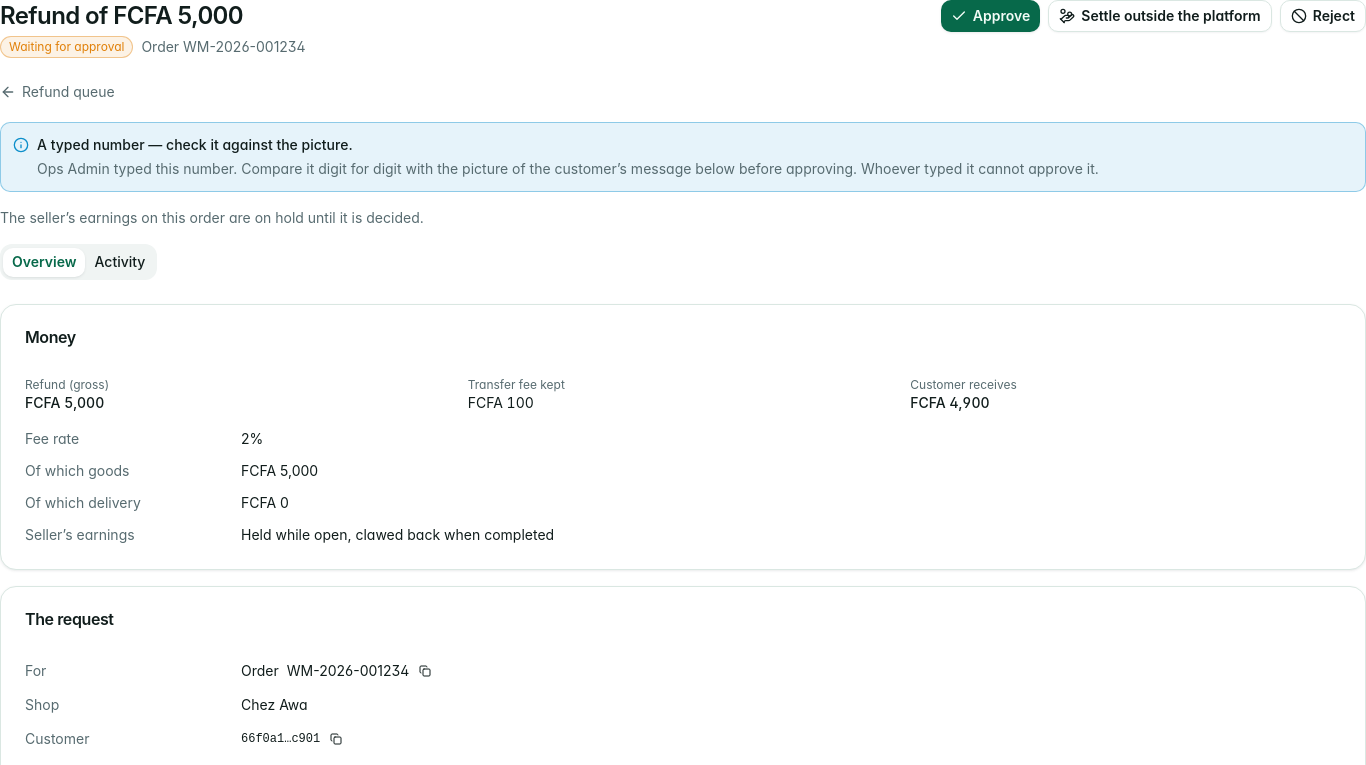
Scenario: the two four-eyes rules › turns REFUND_SECOND_APPROVER_REQUIRED into the reason, not a generic error
Click the button "Approve" at (991, 16), box top-left (941, 0), bottom-right (1040, 32)
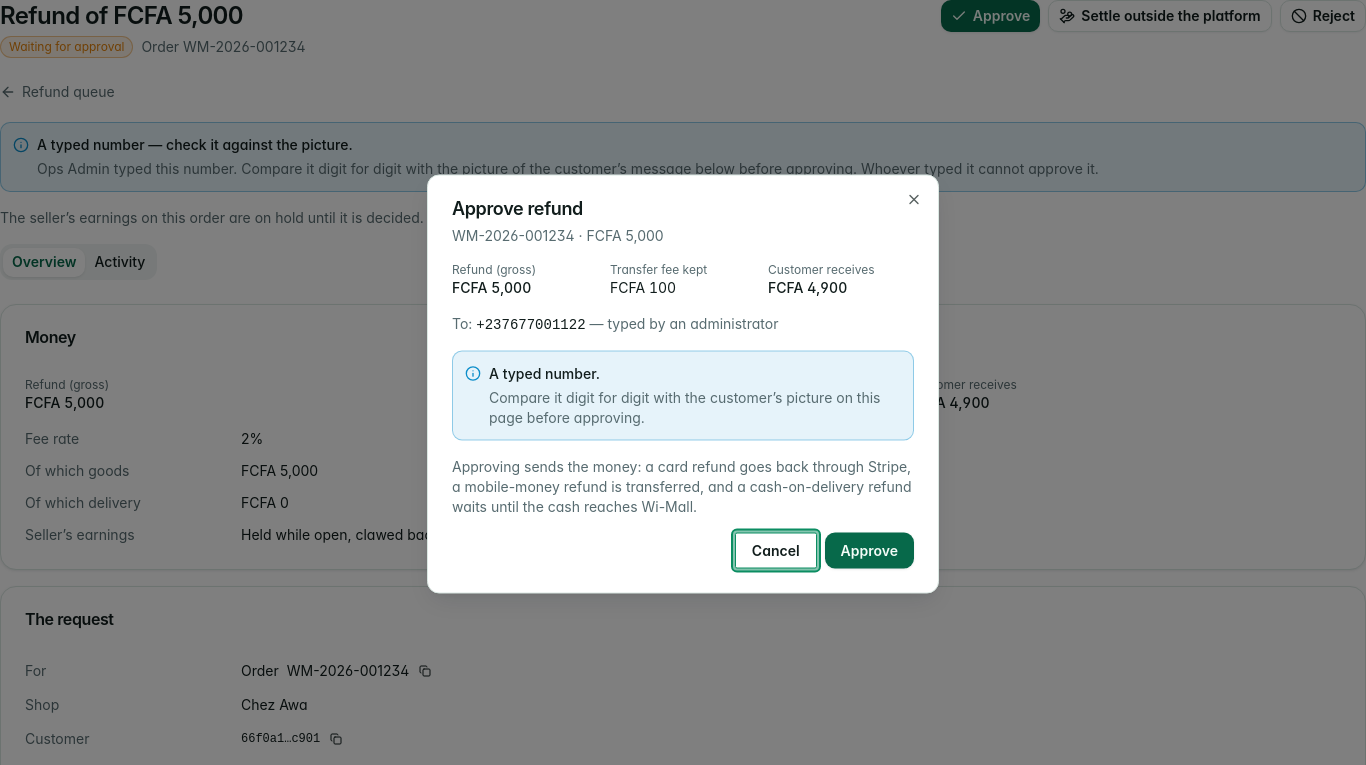
Click the button "Approve" at (869, 550), box top-left (825, 532), bottom-right (914, 568)
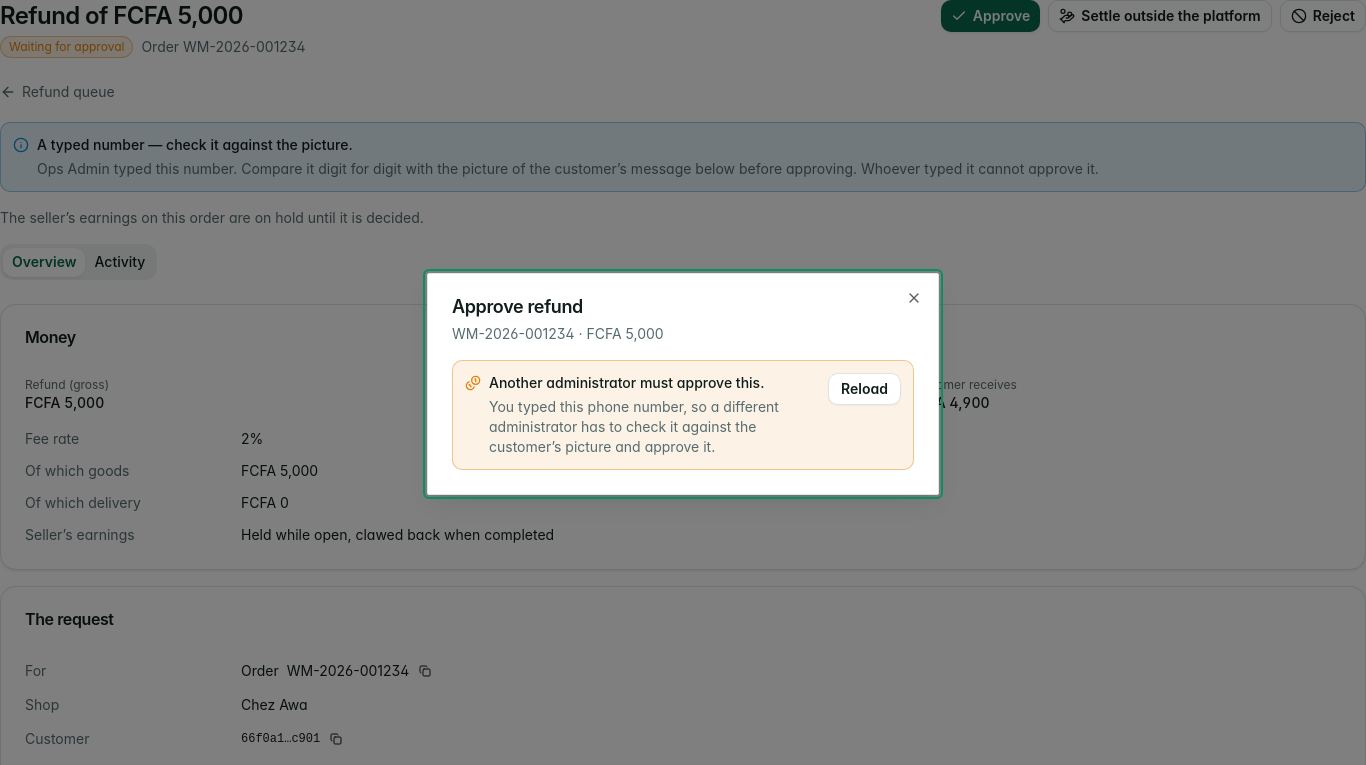
Result: the text "Another administrator must approve this." is shown at top-left (489, 374), bottom-right (764, 391)
